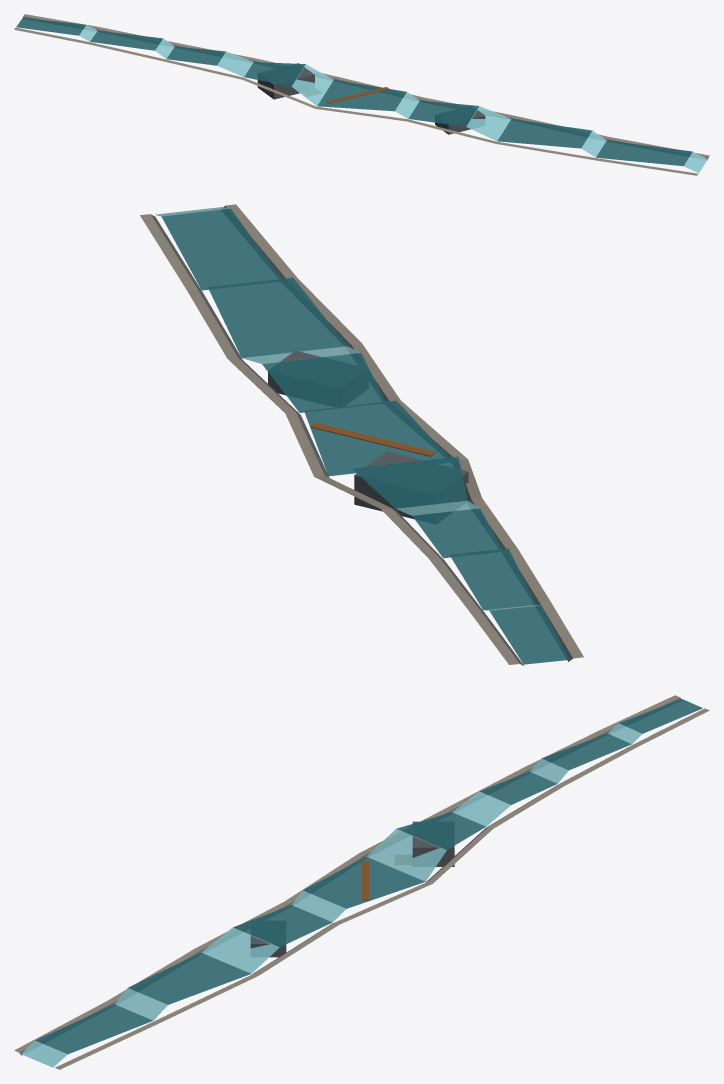
File: water_thac_datanla.glb
The picture shows the model from 3 angles, top to bottom: view 1: azimuth 30°, elevation 25°; view 2: azimuth 150°, elevation 25°; view 3: azimuth 270°, elevation 25°; orthographic projection. The views are drawn at different scales.
Parts seen in each view (by area): view 1: water_terraces_water_thac_datanla, waterfall_curtain_water_thac_datanla, canyon_walkway_water_thac_datanla, datanla_main_basalt_cliff_ledge, datanla_death_valley_cliff_ledge; view 2: water_terraces_water_thac_datanla, canyon_walkway_water_thac_datanla, basalt_canyon_embankments_water_thac_datanla, waterfall_curtain_water_thac_datanla, datanla_main_basalt_cliff_ledge, datanla_canyon_wooden_footbridge; view 3: water_terraces_water_thac_datanla, waterfall_curtain_water_thac_datanla, canyon_walkway_water_thac_datanla, basalt_canyon_embankments_water_thac_datanla.
Part boxes in pixels (x1=…): water_terraces_water_thac_datanla: x1=16, y1=17, x2=692, y2=166; waterfall_curtain_water_thac_datanla: x1=79, y1=25, x2=707, y2=172; canyon_walkway_water_thac_datanla: x1=14, y1=14, x2=709, y2=175; datanla_main_basalt_cliff_ledge: x1=257, y1=63, x2=314, y2=99; datanla_death_valley_cliff_ledge: x1=435, y1=110, x2=485, y2=134; water_terraces_water_thac_datanla: x1=161, y1=208, x2=569, y2=664; canyon_walkway_water_thac_datanla: x1=140, y1=204, x2=583, y2=664; basalt_canyon_embankments_water_thac_datanla: x1=151, y1=206, x2=572, y2=665; waterfall_curtain_water_thac_datanla: x1=155, y1=207, x2=540, y2=610; datanla_main_basalt_cliff_ledge: x1=354, y1=451, x2=468, y2=519; datanla_canyon_wooden_footbridge: x1=310, y1=422, x2=436, y2=456; water_terraces_water_thac_datanla: x1=35, y1=699, x2=702, y2=1054; waterfall_curtain_water_thac_datanla: x1=21, y1=723, x2=642, y2=1067; canyon_walkway_water_thac_datanla: x1=14, y1=695, x2=709, y2=1069; basalt_canyon_embankments_water_thac_datanla: x1=19, y1=697, x2=686, y2=1055.
Bounding box in the file's own units: 425 × 58.45 × 430.
